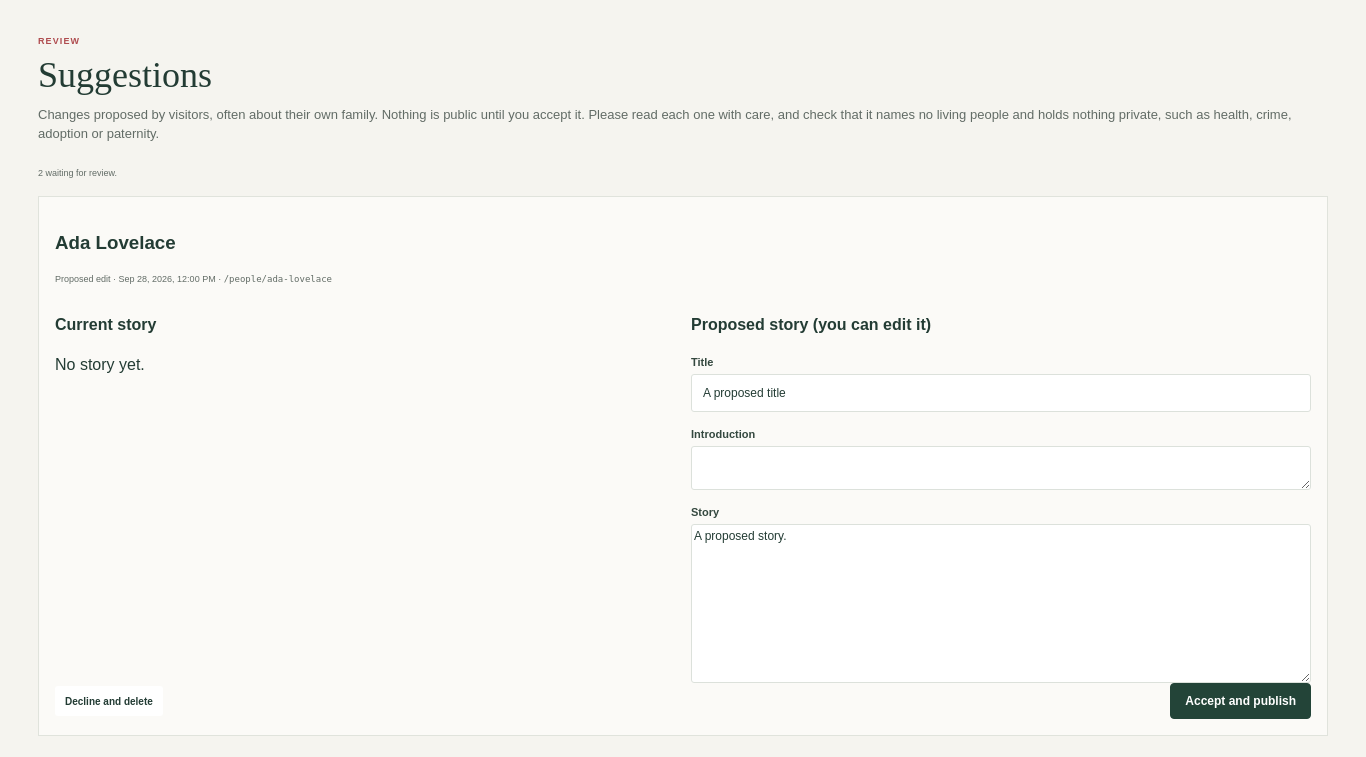
the review queue › loads the next page once the loaded one is worked through
Expected: the text "2 waiting for review." is shown, [38,168,117,178]
Step 1. Click the button "Decline and delete" → (109, 701), box [55,686,163,716]
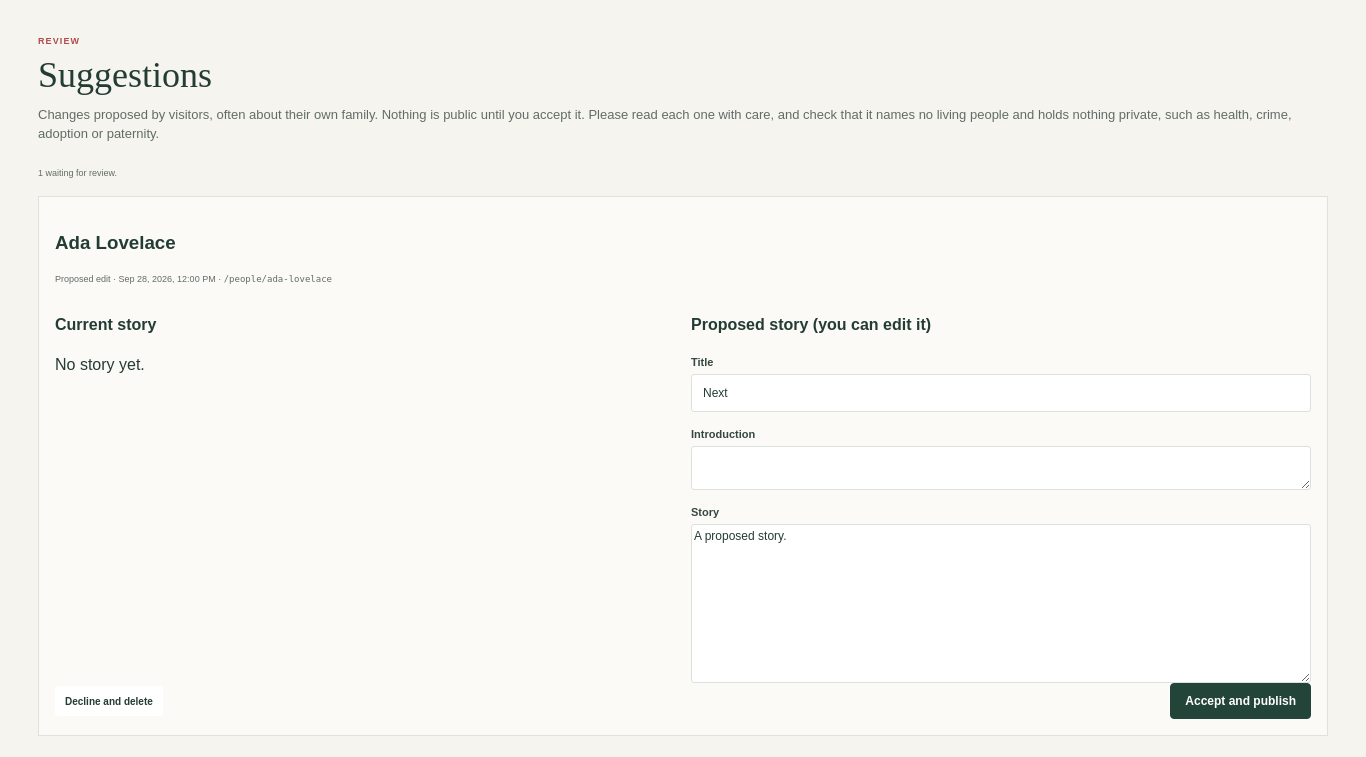
Expected: the field showing "Next" is shown, [691,374,1311,412]
Expected: the text "1 waiting for review." is shown, [38,168,117,178]
